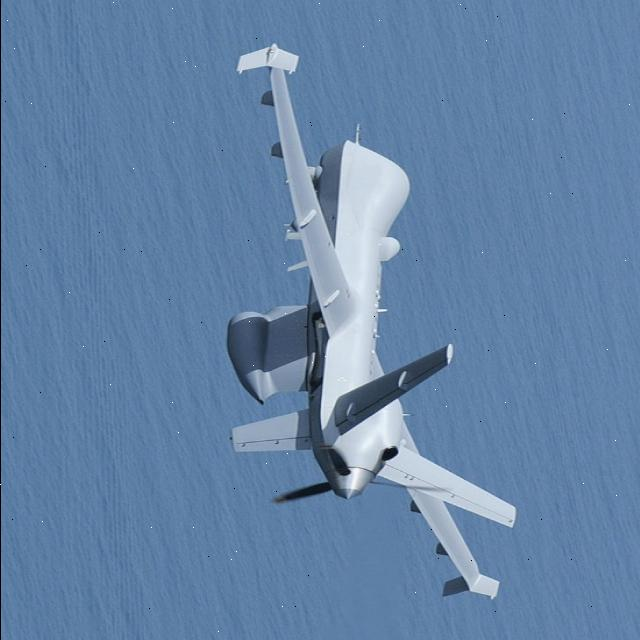MQ9: (188, 19, 554, 626)
